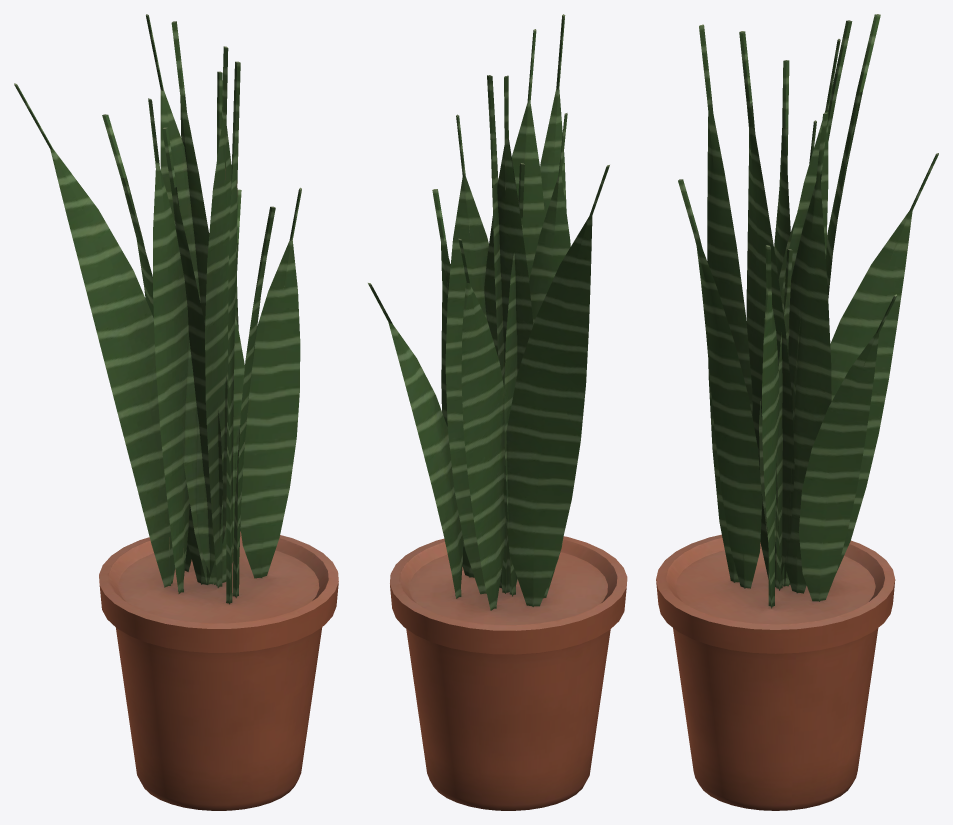
The model's file is plant_snake.glb.
3 views of the same model, side by side, from view 1: azimuth 30°, elevation 25°; view 2: azimuth 150°, elevation 25°; view 3: azimuth 270°, elevation 25° (orthographic).
Visible parts, largest first — view 1: plant_snake; view 2: plant_snake; view 3: plant_snake.
Part boxes in pixels (x1,y1,x2,y2): plant_snake: (14,14,338,810); plant_snake: (368,14,627,810); plant_snake: (656,14,938,810).
Bounding box in the file's own units: 0.3782 × 1.05 × 0.3618.
1 material, 1 textured.
